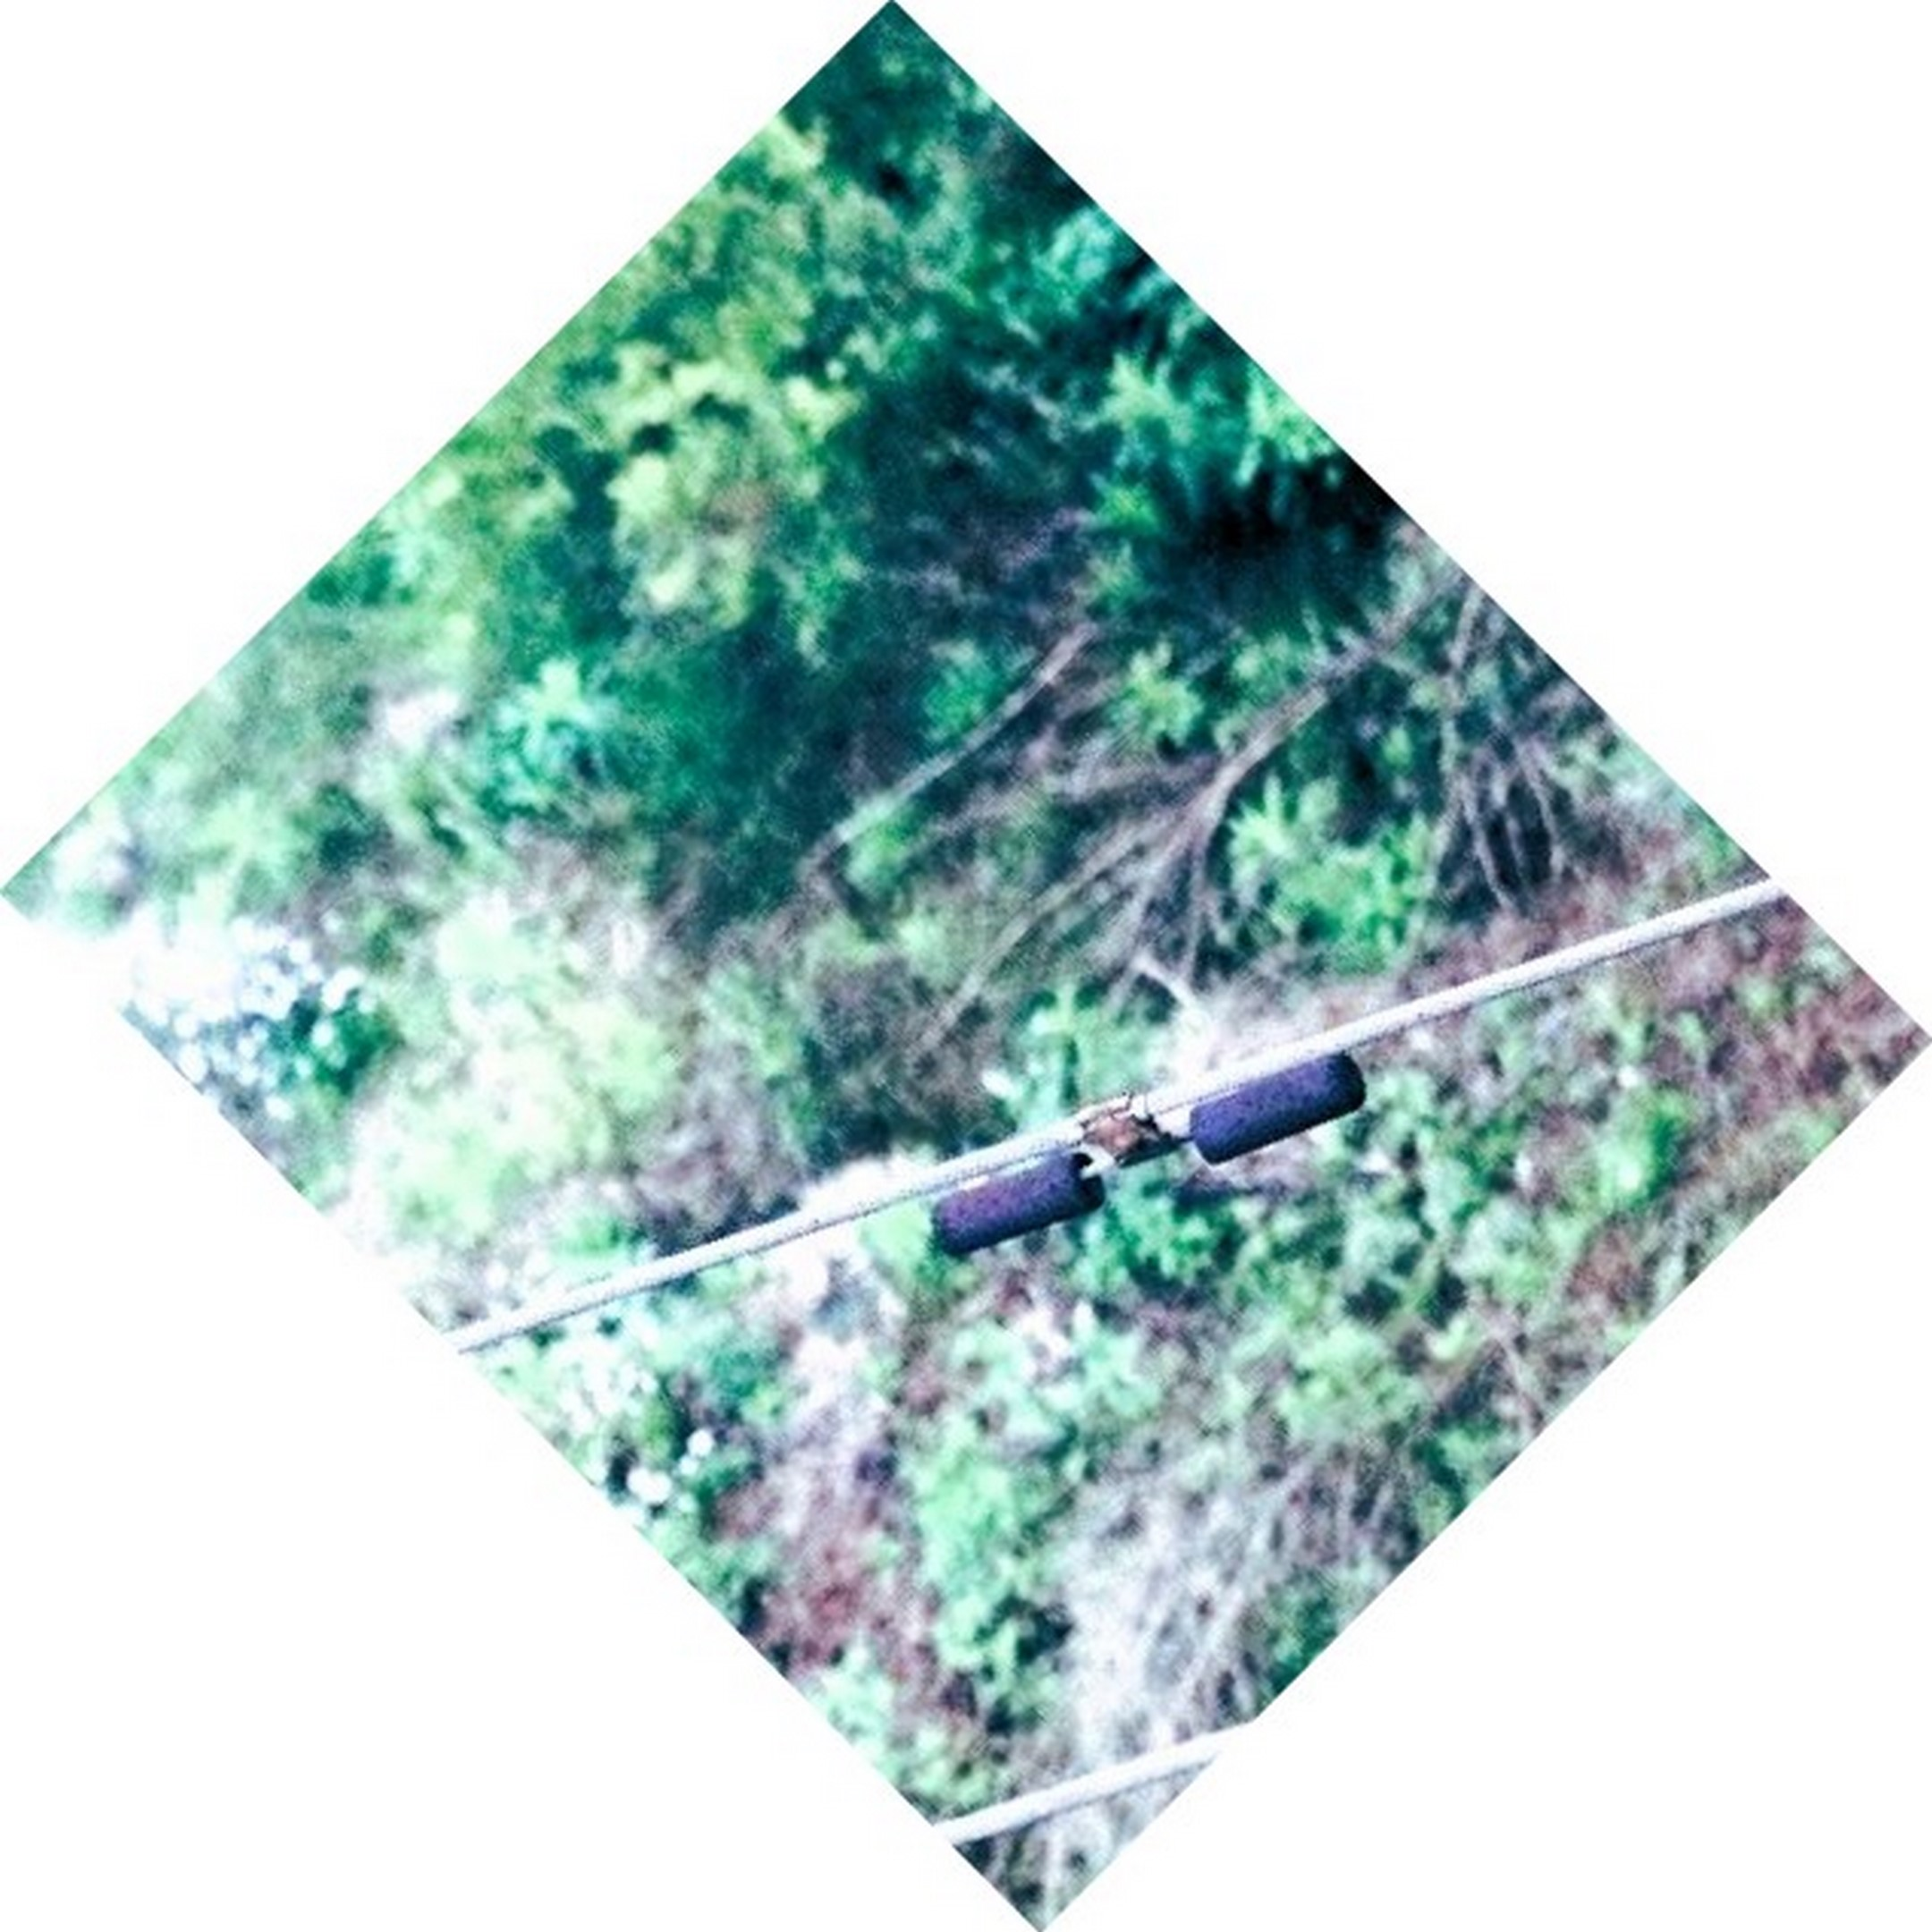Shockproof hammer: (897, 1039, 1385, 1272)
